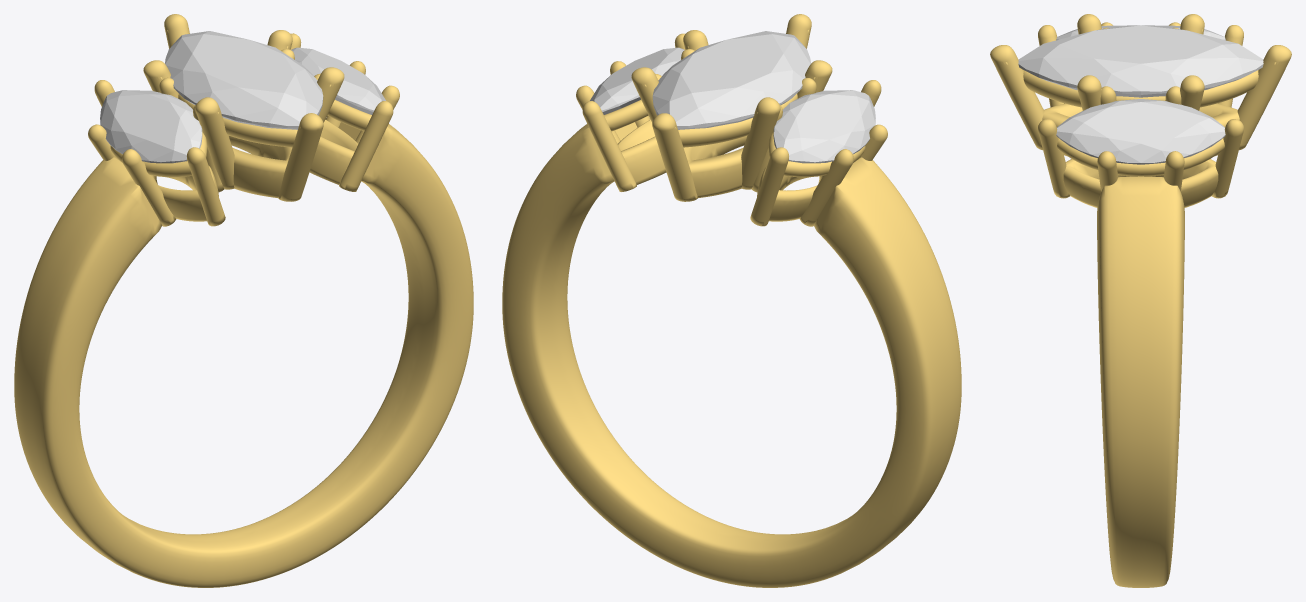
Rendered from diamond-marquise-yellowgold-6prong-straighttaperedband-3stone.glb.
3 renders of one model, left to right at view 1: azimuth 30°, elevation 25°; view 2: azimuth 150°, elevation 25°; view 3: azimuth 270°, elevation 25°, orthographic.
Parts seen in each view (by area): view 1: metal.001, stone.001, side.003, side.002; view 2: metal.001, stone.001, side.003, side.002; view 3: metal.001, stone.001, side.002, side.003.
Part boxes in pixels (x1,y1,x2,y2): metal.001: (14,14,473,587); stone.001: (165,31,323,129); side.003: (100,90,202,163); side.002: (291,47,385,114); metal.001: (502,14,961,587); stone.001: (652,31,810,129); side.003: (773,90,875,163); side.002: (590,47,684,114); metal.001: (990,14,1291,587); stone.001: (1018,25,1263,97); side.002: (1056,99,1225,164); side.003: (1056,25,1225,40).
Size of the model in its own units: 20.11 by 22.73 by 11.96.
